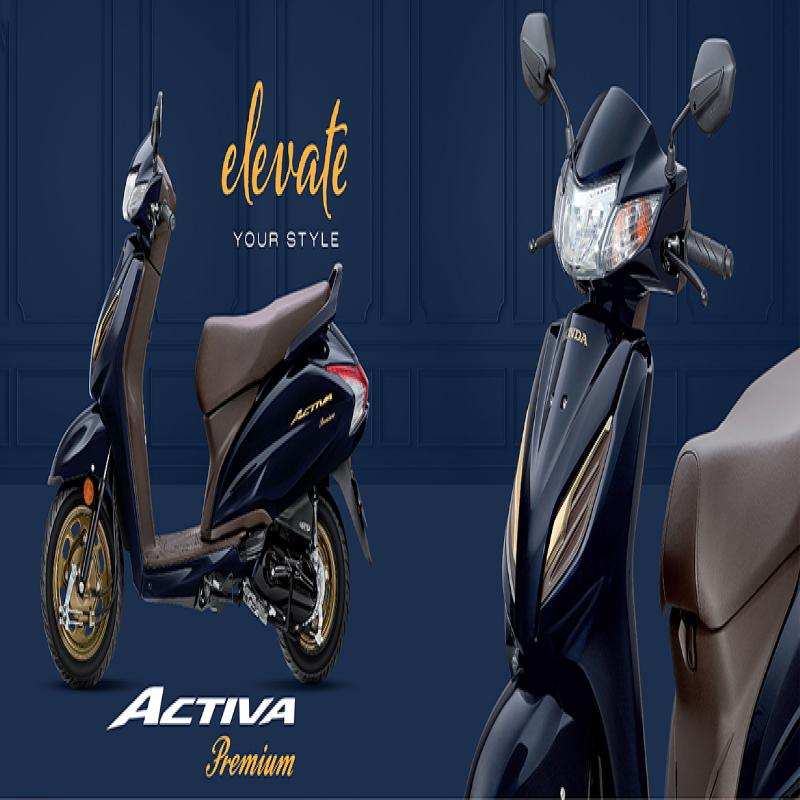bike: (482, 6, 799, 798), (30, 55, 373, 705)
